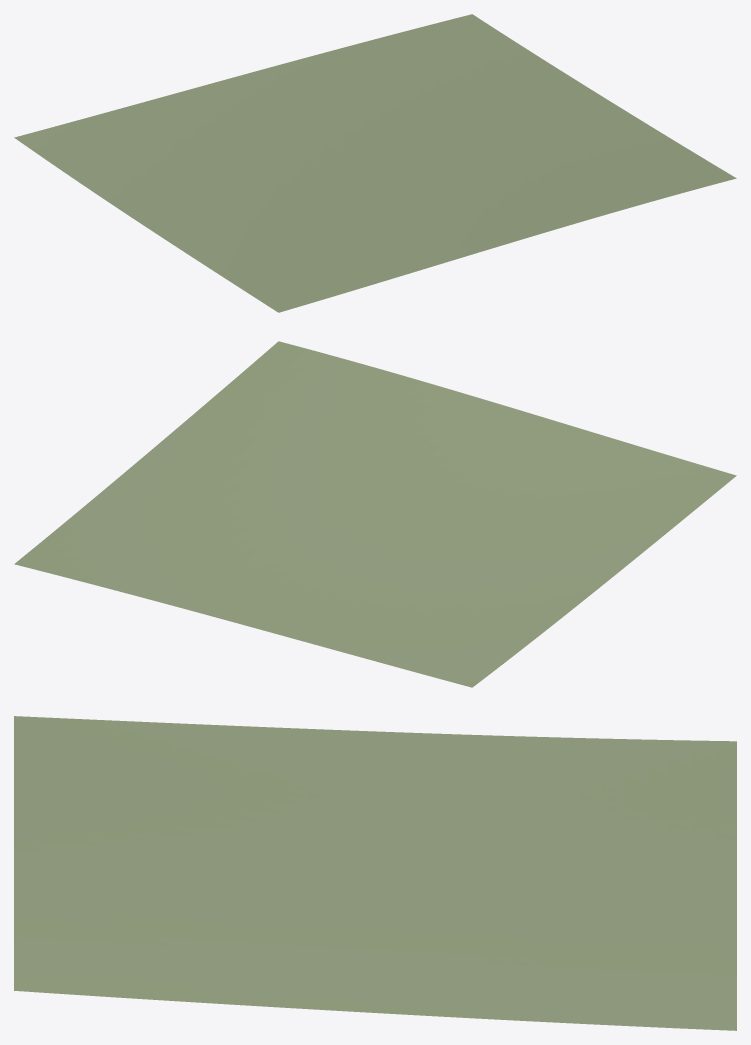
The model's file is expanse-16-14.glb.
The picture shows the model from 3 angles, top to bottom: view 1: azimuth 30°, elevation 25°; view 2: azimuth 150°, elevation 25°; view 3: azimuth 270°, elevation 25°; orthographic projection. The views are drawn at different scales.
Parts seen in each view (by area): view 1: expanse-16-14; view 2: expanse-16-14; view 3: expanse-16-14.
Part boxes in pixels (x1=…): expanse-16-14: x1=14, y1=14, x2=736, y2=312; expanse-16-14: x1=14, y1=341, x2=736, y2=687; expanse-16-14: x1=14, y1=716, x2=736, y2=1030.
Size of the model in its own units: 256 by 21.88 by 256.
